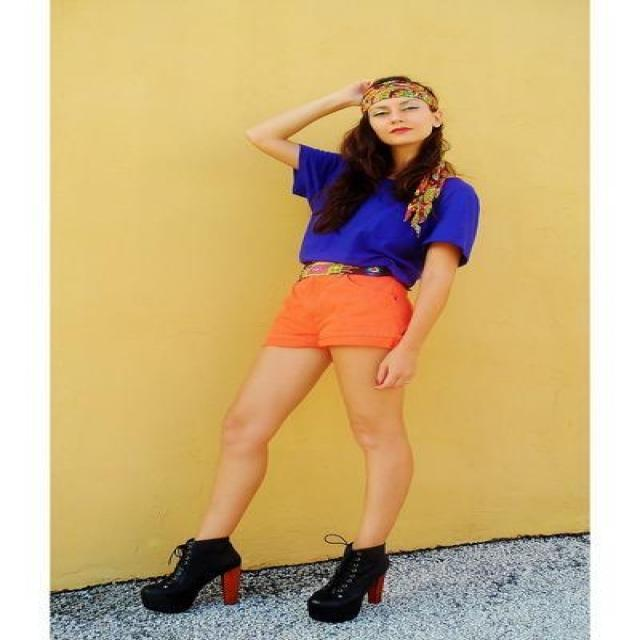shirt: (293, 145, 478, 289)
shoe: (141, 536, 400, 623)
shorts: (269, 261, 413, 369)
